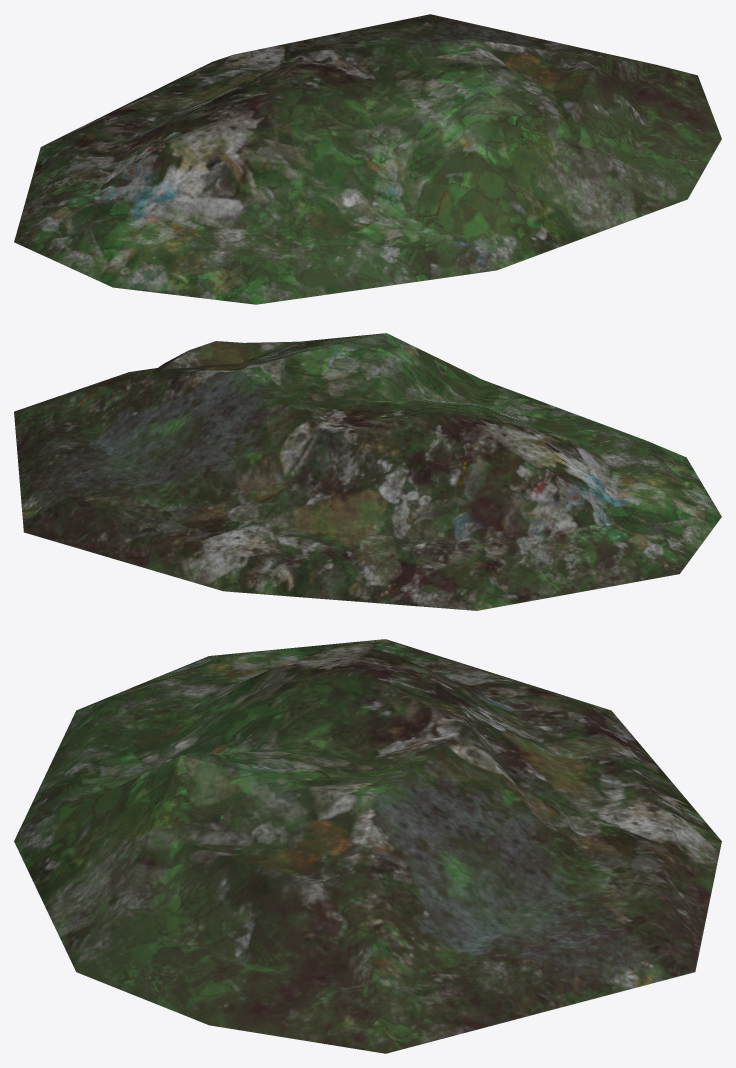
Rendered from TrashPile.fbx.
3 renders of one model, top to bottom at view 1: azimuth 30°, elevation 25°; view 2: azimuth 150°, elevation 25°; view 3: azimuth 270°, elevation 25°, orthographic. The views are drawn at different scales.
Visible parts, largest first — view 1: TrashPile; view 2: TrashPile; view 3: TrashPile.
Part boxes in pixels (<box>): TrashPile: <box>14,14,721,304</box>; TrashPile: <box>14,333,721,610</box>; TrashPile: <box>14,639,721,1053</box>.
Size of the model in its own units: 255 by 34.33 by 184.
